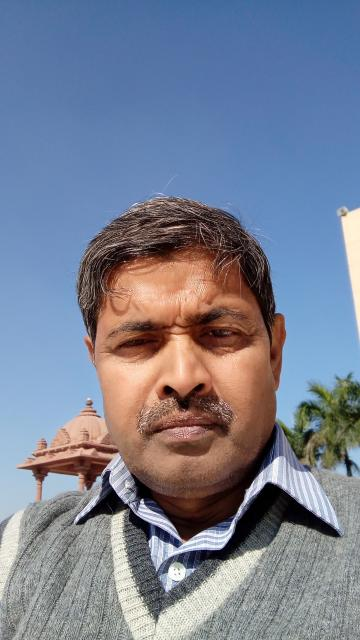frown_line: (163, 311, 189, 339)
